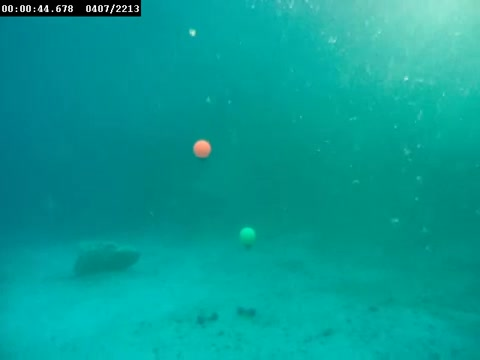buoy_green: (239, 226, 255, 252)
buoy_red: (190, 136, 211, 166)
